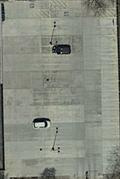parkingspot: (50, 8, 76, 177), (29, 17, 54, 178), (96, 16, 120, 138), (28, 0, 50, 11)
